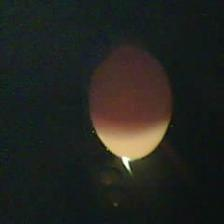fertile: (88, 42, 174, 161)
